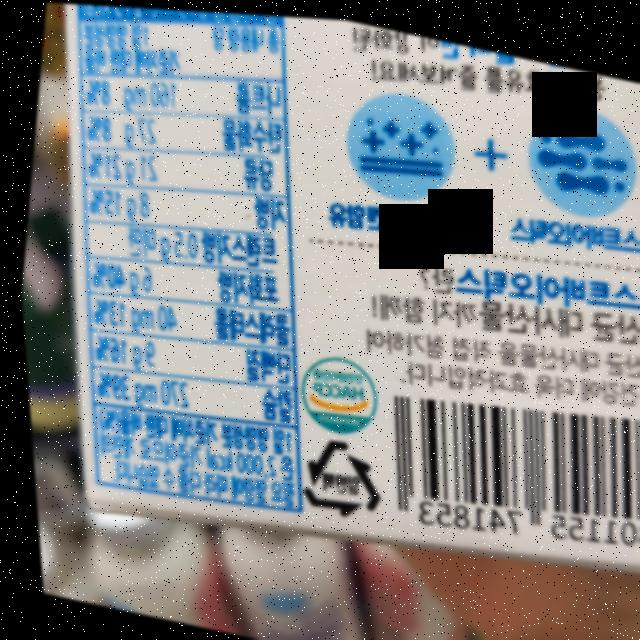NormalPack: (287, 427, 383, 525)
